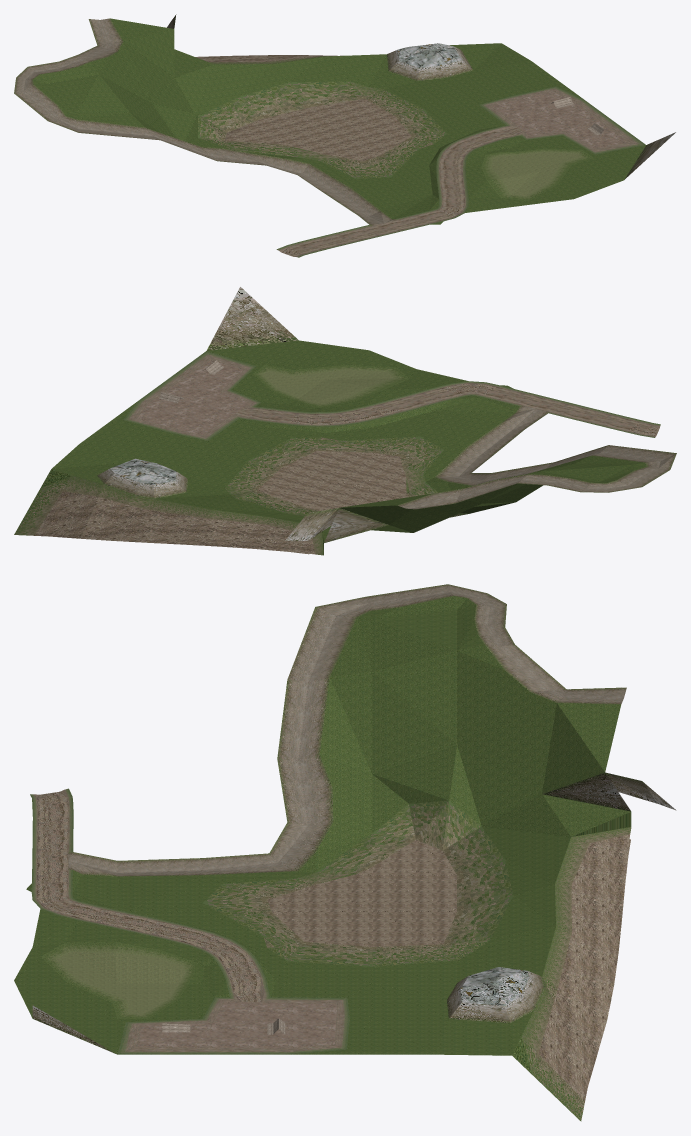
The model's file is lodcuntw24.obj.
The picture shows the model from 3 angles, top to bottom: view 1: azimuth 30°, elevation 25°; view 2: azimuth 150°, elevation 25°; view 3: azimuth 270°, elevation 25°; orthographic projection. The views are drawn at different scales.
Visible parts, largest first — view 1: lodcuntw24; view 2: lodcuntw24; view 3: lodcuntw24.
Part boxes in pixels (box(x1,y1,x2,y2)): lodcuntw24: box(14, 14, 675, 257); lodcuntw24: box(14, 287, 676, 555); lodcuntw24: box(14, 584, 676, 1121).
Size of the model in its own units: 308 by 77.87 by 246.
12 materials, 12 textured.
